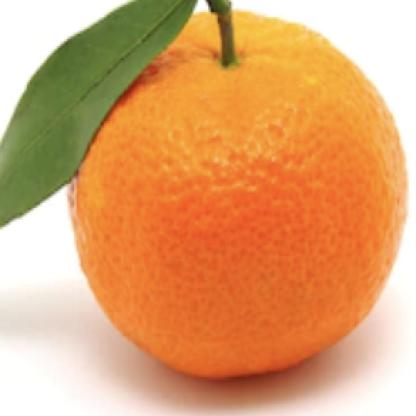fresh: (65, 8, 406, 373)
